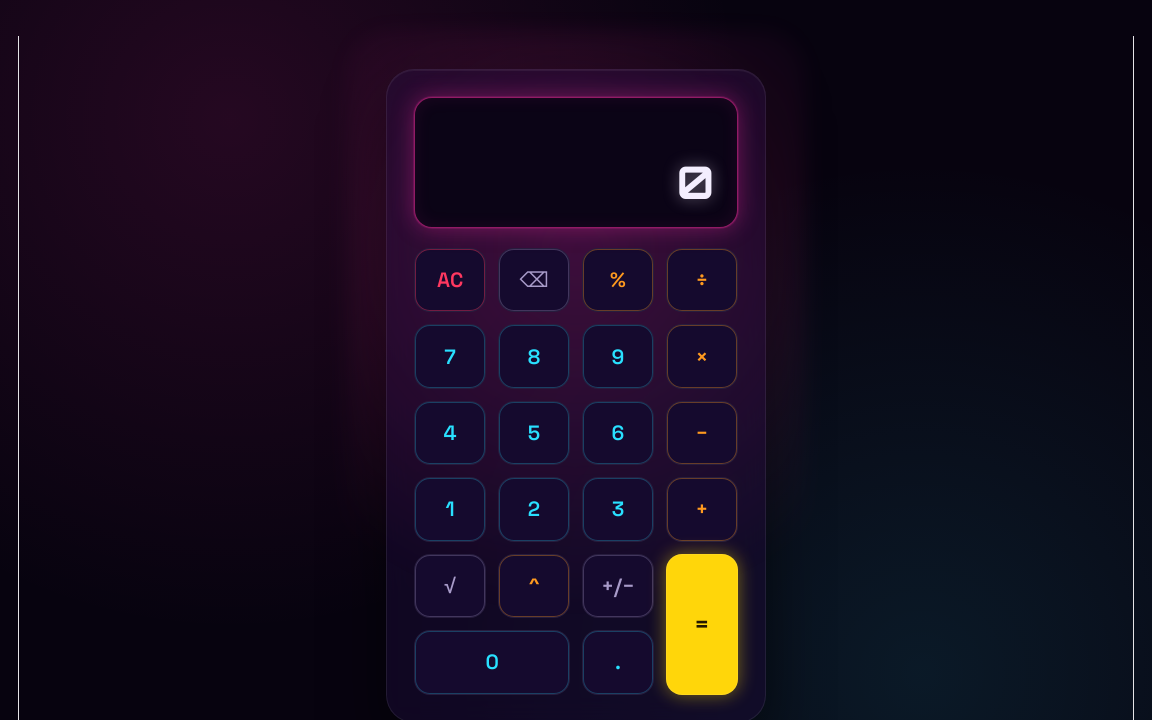
Test: <Calculator /> (integration, user behavior) › √ resolves with a single operand without needing =
The image size is (1152, 720).
Click the button "1" at [450, 510], box x1=414 y1=477 x2=486 y2=542
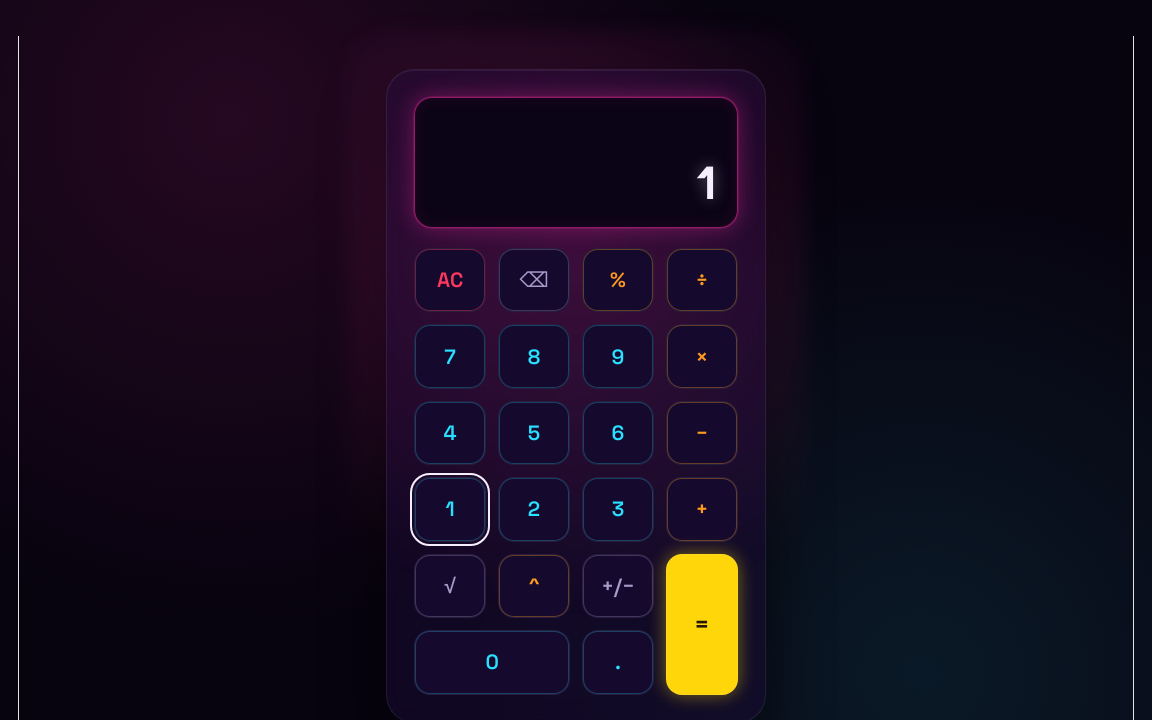
Click the button "6" at [618, 433], box x1=582 y1=401 x2=654 y2=465
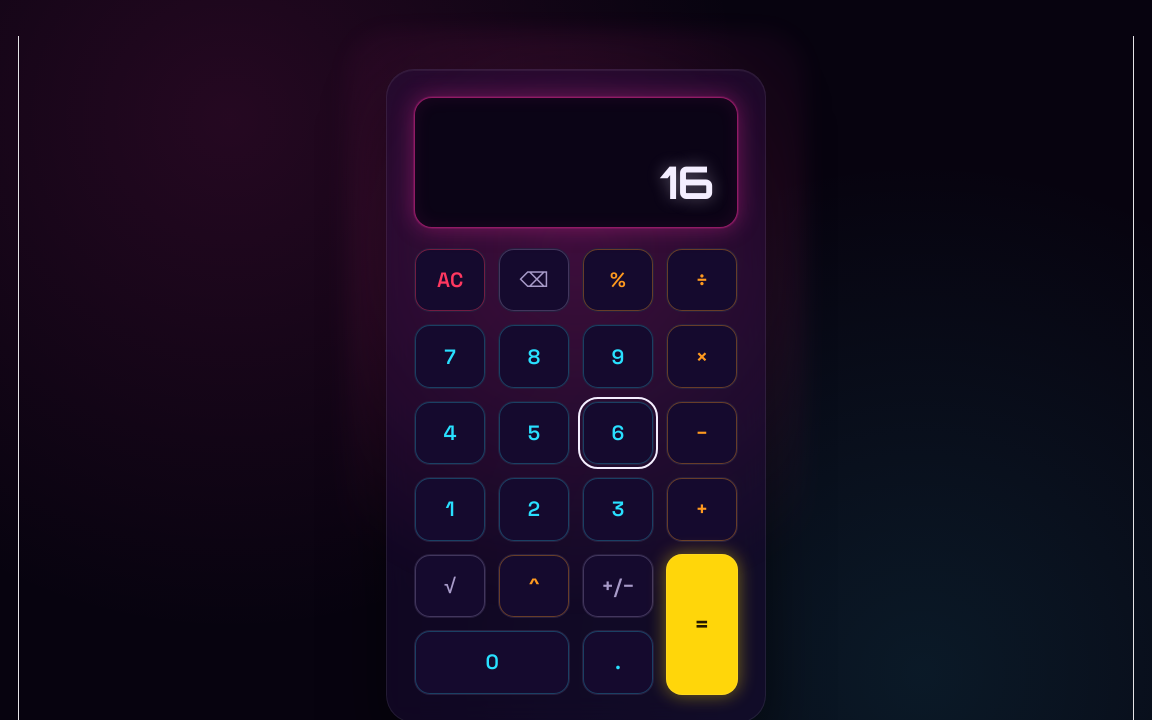
Click the button named "Square root" at [450, 586], box x1=414 y1=554 x2=486 y2=618
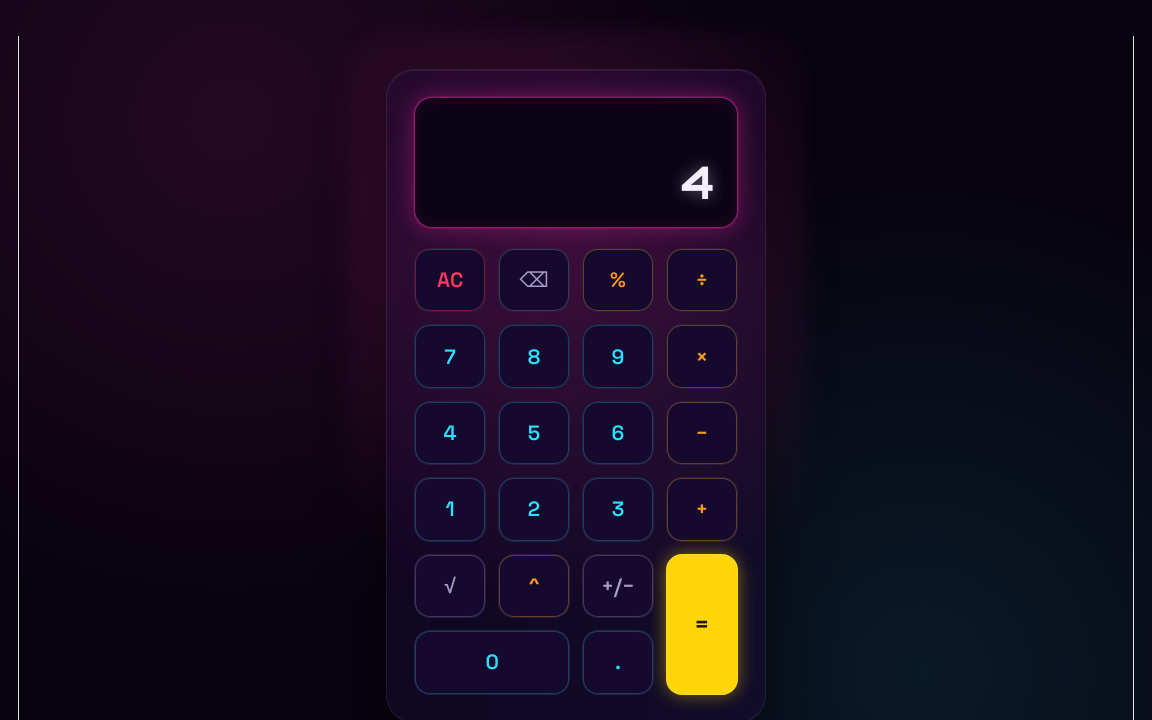
Check: the text with test id "display-value" reads "4", box x1=682 y1=154 x2=714 y2=210
